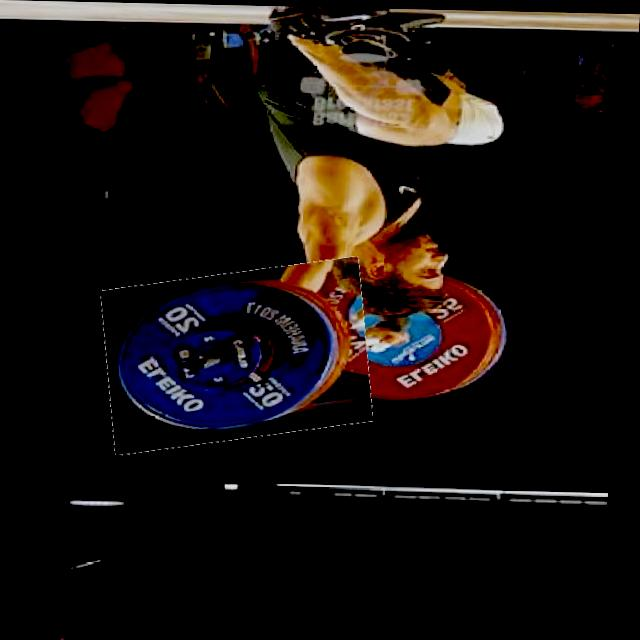barbell: (103, 261, 382, 450)
